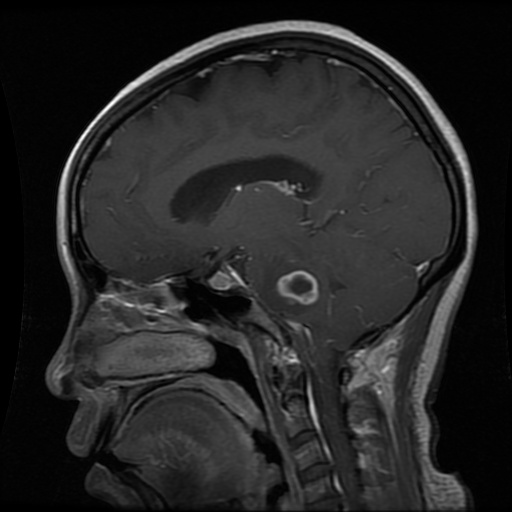glioma: (275, 268, 321, 305)
